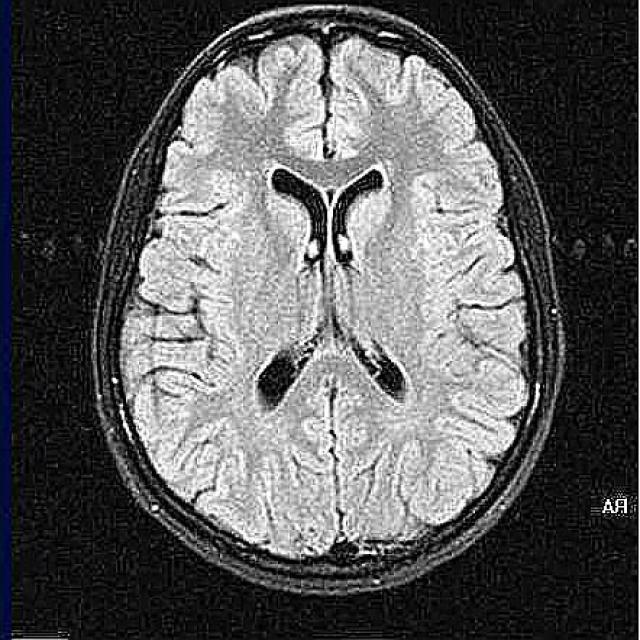notumor: (90, 6, 568, 603)
